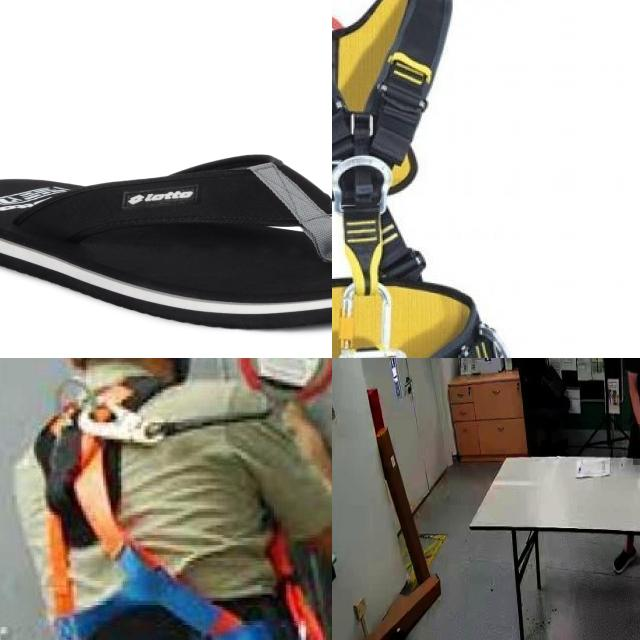Harness: (36, 381, 332, 640), (332, 0, 508, 358)
Sandals: (0, 151, 332, 333)
hand_glove: (633, 424, 640, 466)
shoes: (613, 539, 638, 576)
